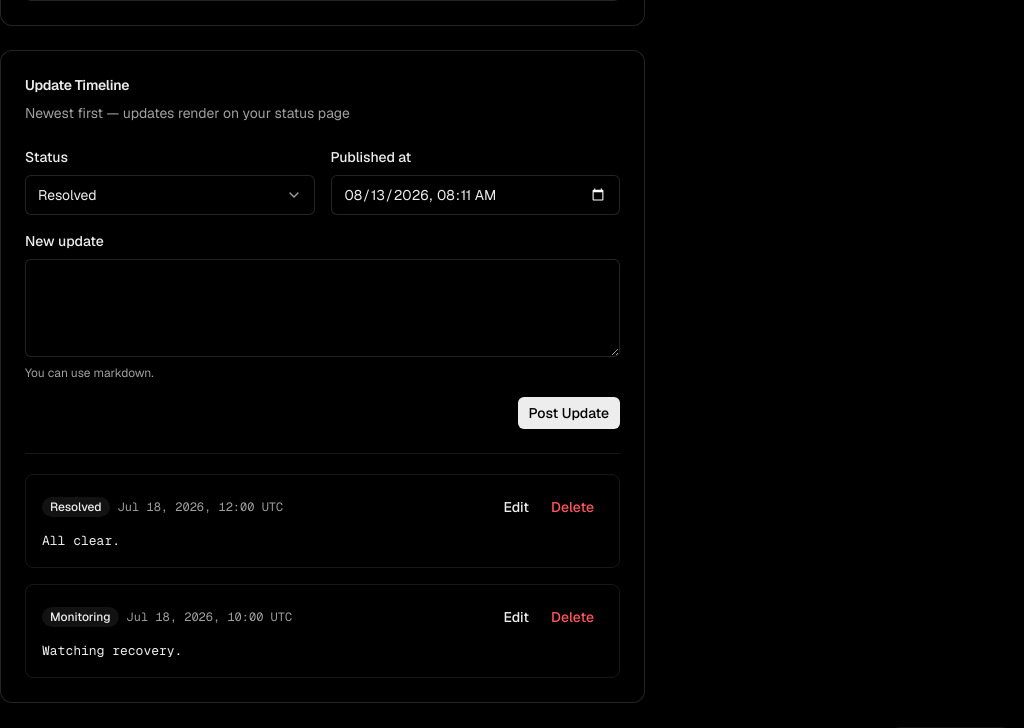
Scenario: ReportEditor edit mode › warns inside the delete confirm when removing the resolving update reopens the report
The image size is (1024, 728).
(page scrolled)
Click the button "Delete" in the row of "Jul 18, 2026, 12:00 UTC": {"x": 572, "y": 507} [542, 491, 603, 523]
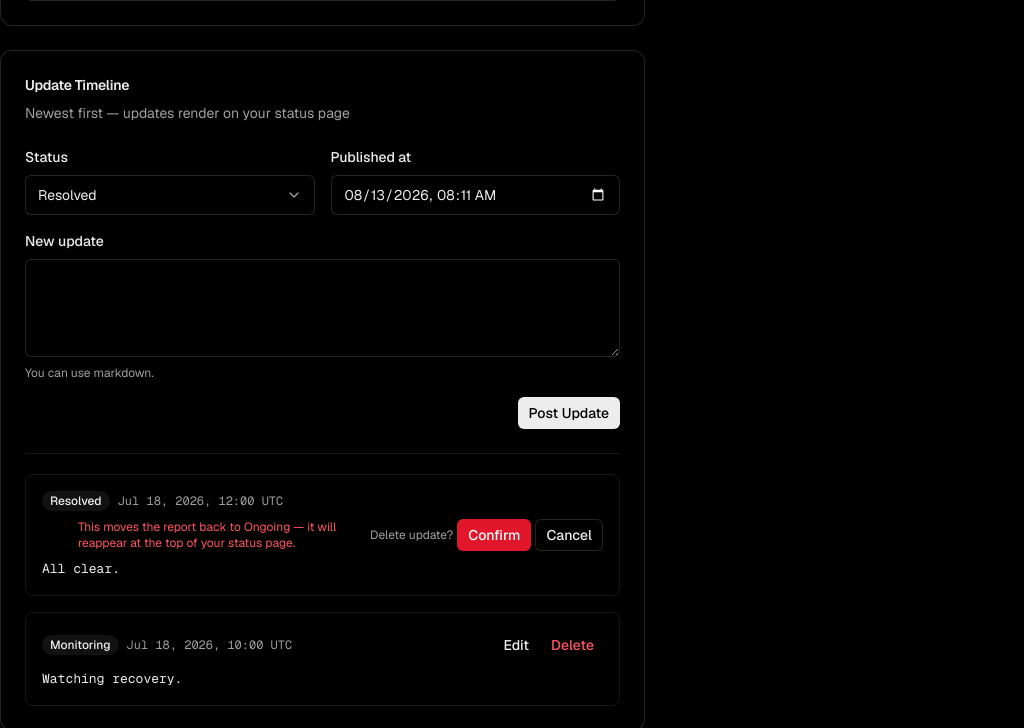
Expected: the text "Delete update?" is shown, [370, 527, 453, 543]
Expected: the text "This moves the report back to Ongoing — it will reappear at the top of your status page." is shown, [78, 519, 336, 551]
